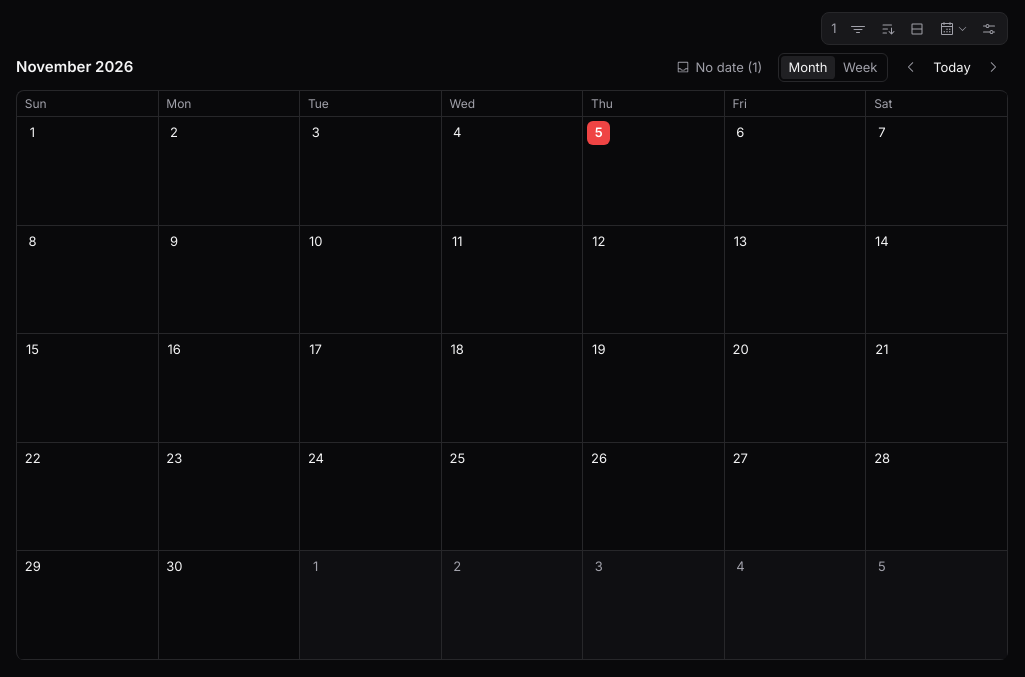
Test: CalendarLayout modes and paging › the Month / Week switch saves the mode in calendarConfig
Click the button "Week". click: click(860, 67)
box: x1=835 y1=56 x2=885 y2=79
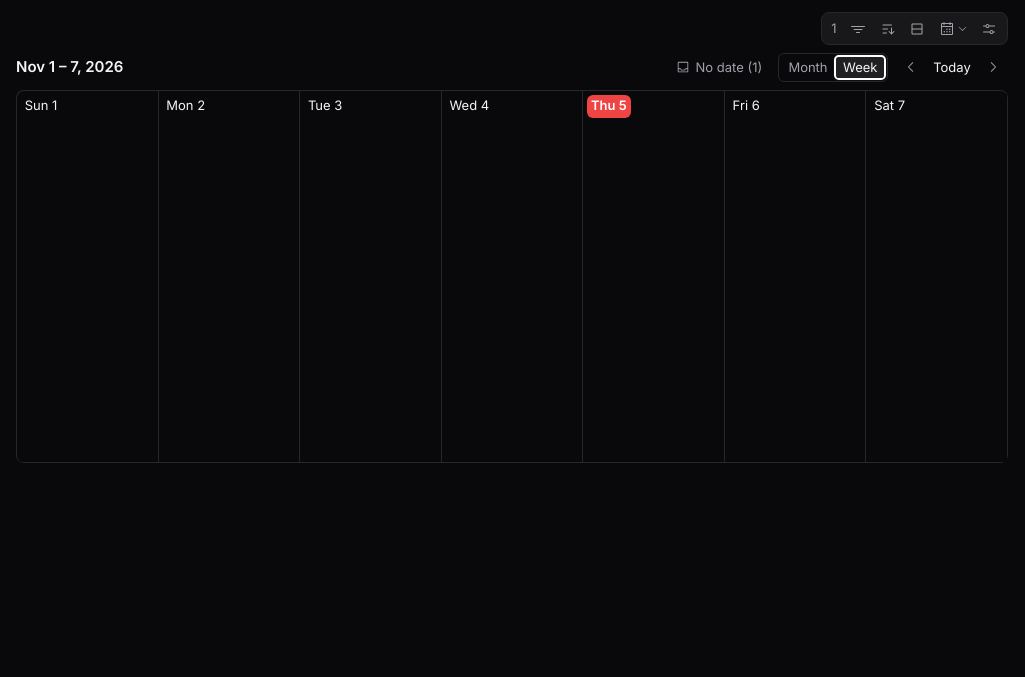
Check: the number of cells with test id "calendar-day" is 7
